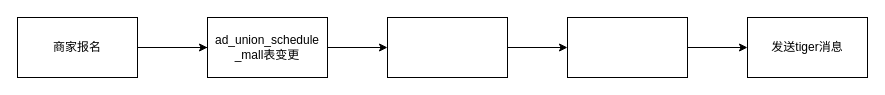
This 885x95 diagram has some shape labels left out. Each missing label, with the centre of its shape:
"dts消息" belongs at point (447, 47).
"消息过滤" belongs at point (627, 47).
